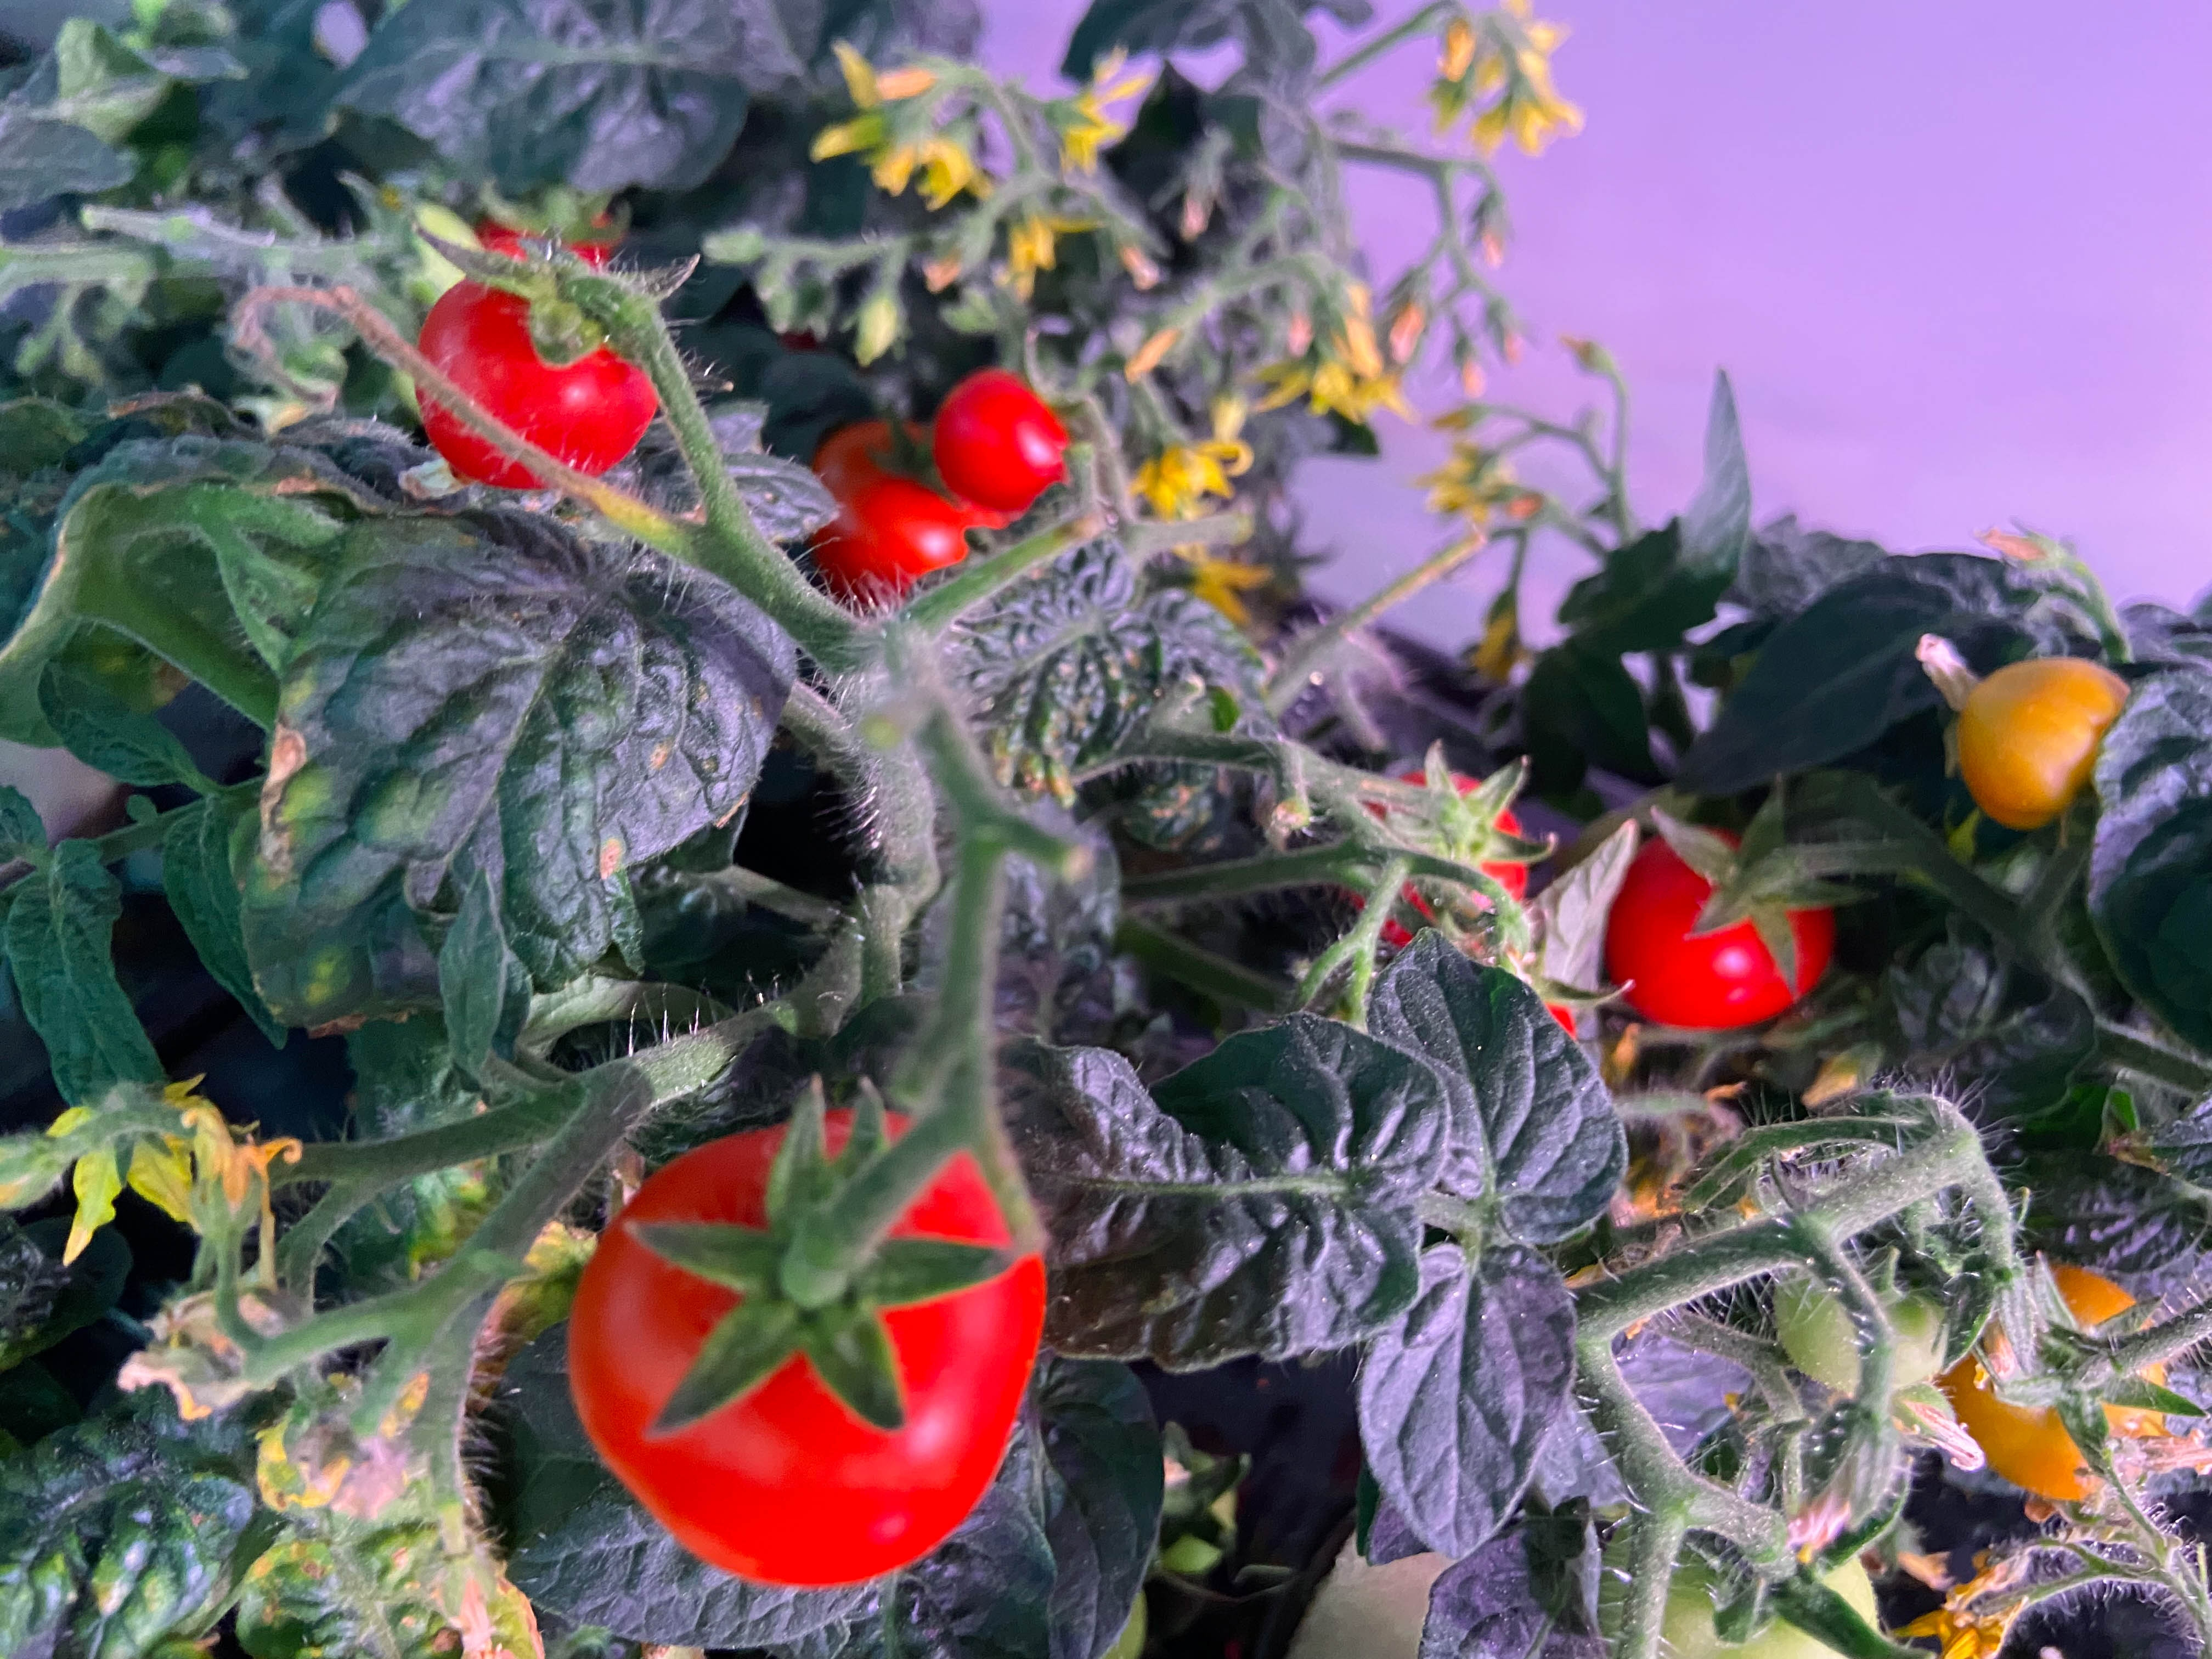green: (1601, 1493, 1879, 1659), (1773, 1241, 1958, 1392)
red: (561, 1096, 1054, 1591), (415, 242, 658, 493), (1949, 1263, 2179, 1507), (763, 415, 1024, 622), (1608, 819, 1838, 1032), (1954, 650, 2132, 840), (1348, 760, 1527, 946), (930, 361, 1069, 528), (469, 185, 655, 281)
